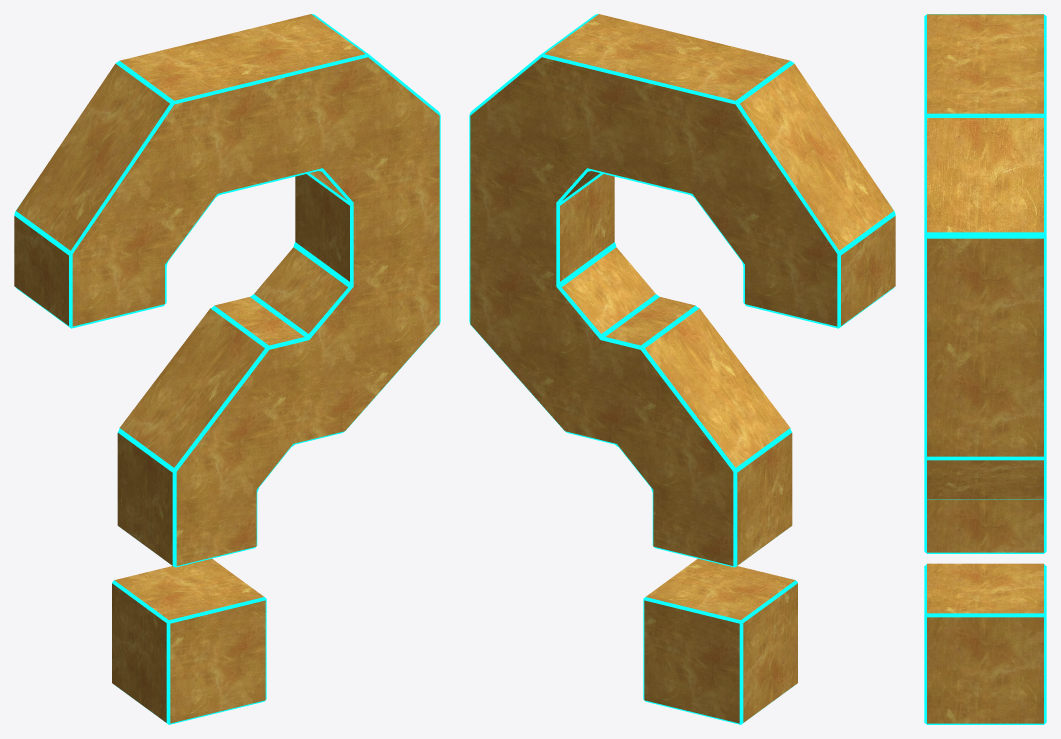
Rendered from question-transformed.glb.
3 views of the same model, side by side, from view 1: azimuth 30°, elevation 25°; view 2: azimuth 150°, elevation 25°; view 3: azimuth 270°, elevation 25° (orthographic). The views are drawn at different scales.
Parts seen in each view (by area): view 1: questionmark; view 2: questionmark; view 3: questionmark.
Part boxes in pixels (x1,y1,x2,y2): questionmark: (14,14,440,724); questionmark: (469,14,895,724); questionmark: (924,14,1046,724).
Bounding box in the file's own units: 167 × 267 × 44.59.
Materials: 2 (1 with a texture image).
